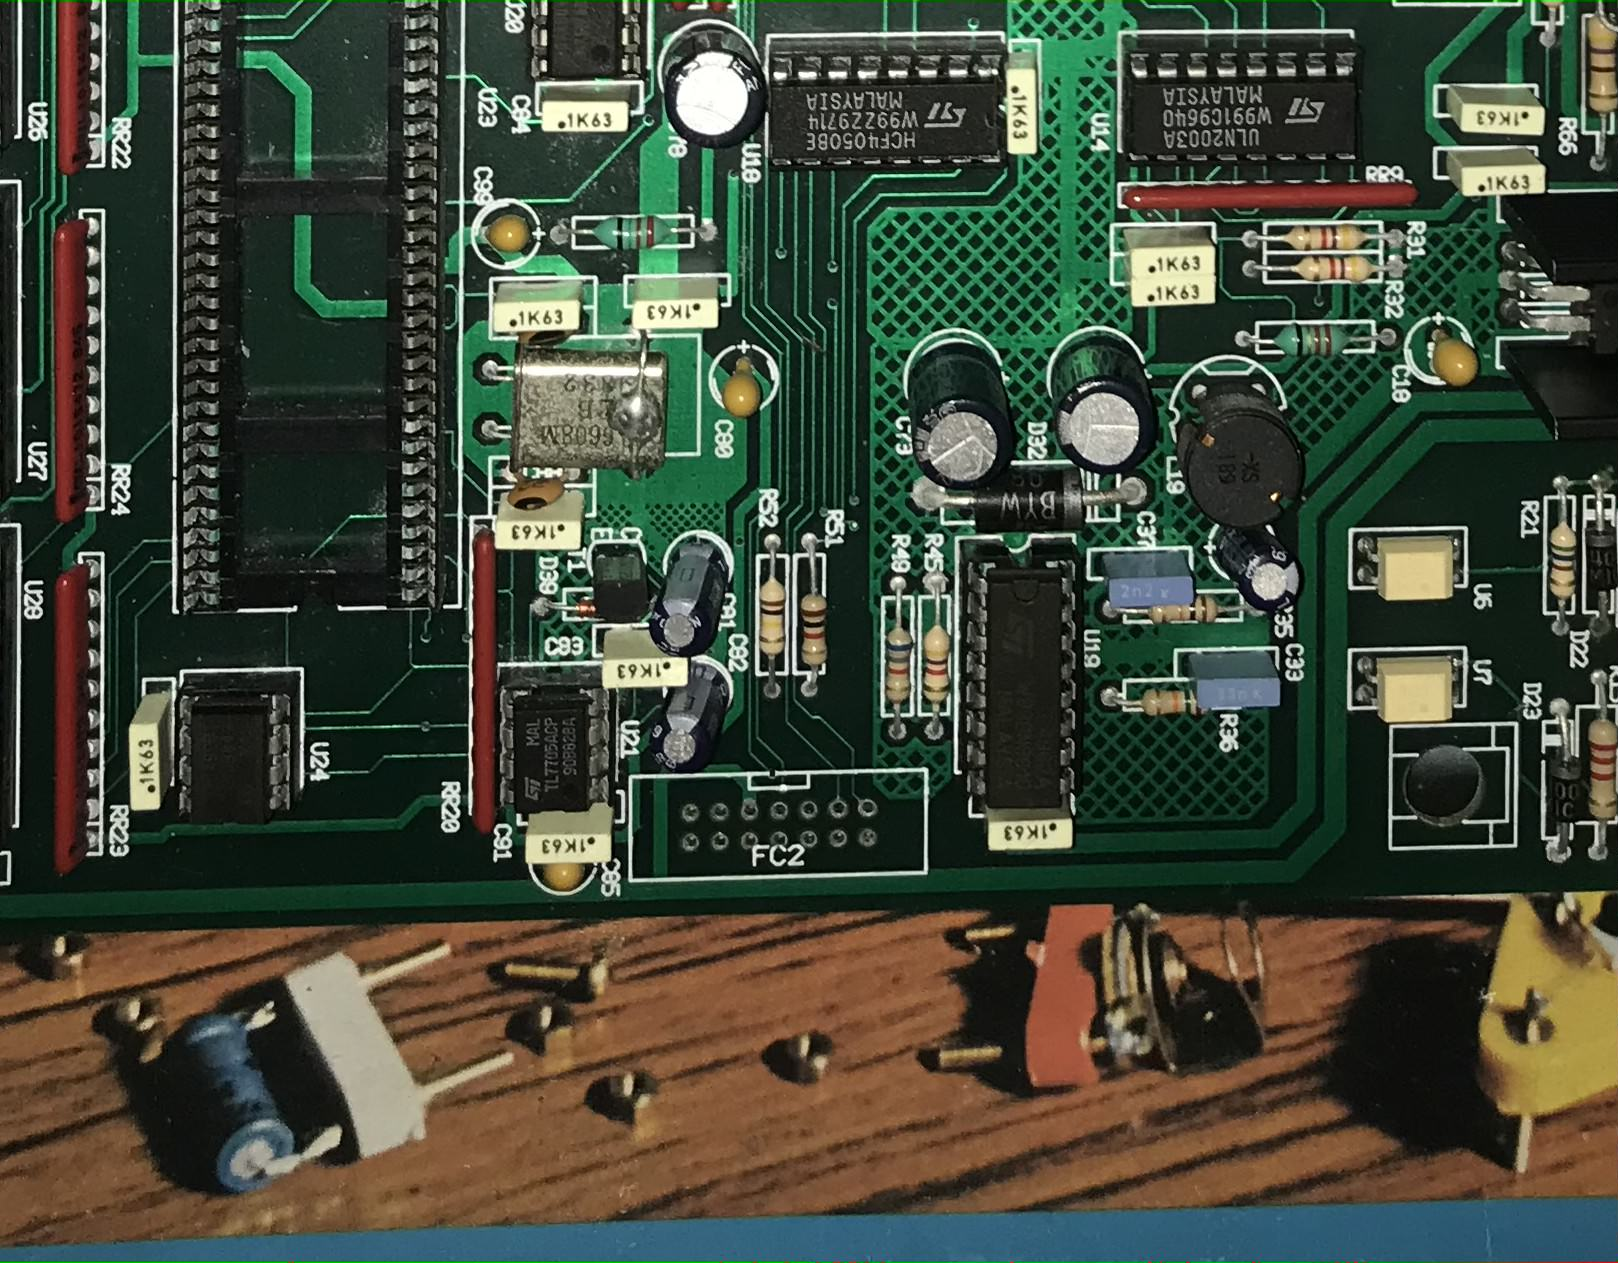Capacitor: (902, 339, 1017, 488), (1045, 331, 1160, 473), (657, 24, 766, 152), (646, 536, 734, 658), (644, 660, 735, 777), (1212, 523, 1303, 614)
Diode: (959, 463, 1104, 530), (1543, 744, 1586, 836), (1581, 519, 1618, 607), (565, 595, 609, 620)
Resistor: (580, 213, 687, 249), (1583, 710, 1618, 821), (1584, 8, 1617, 125), (1542, 505, 1579, 609), (883, 603, 915, 717), (797, 571, 833, 676), (1267, 322, 1366, 358), (755, 559, 788, 663), (921, 609, 952, 716), (1133, 593, 1227, 628), (1278, 256, 1382, 286), (1277, 225, 1379, 253), (1131, 684, 1217, 717)
